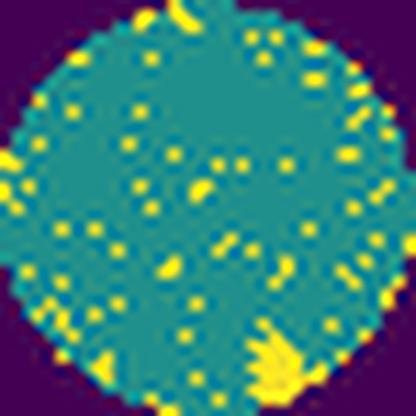Edge-Loc: (241, 317, 332, 407)
